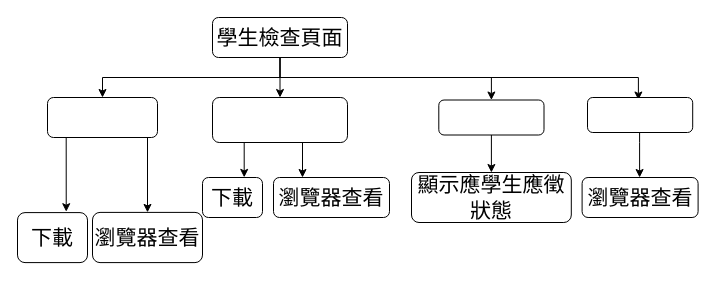
This 716x281 diagram has some shape labels left out. Here are the shapes that lost their labels. From the top down, the centre of each, then its label:
At point 102,117: "成績單檢查".
At point 280,119: "查看實習心得".
At point 491,117: "查看應徵".
At point 639,114: "查看履歷".
